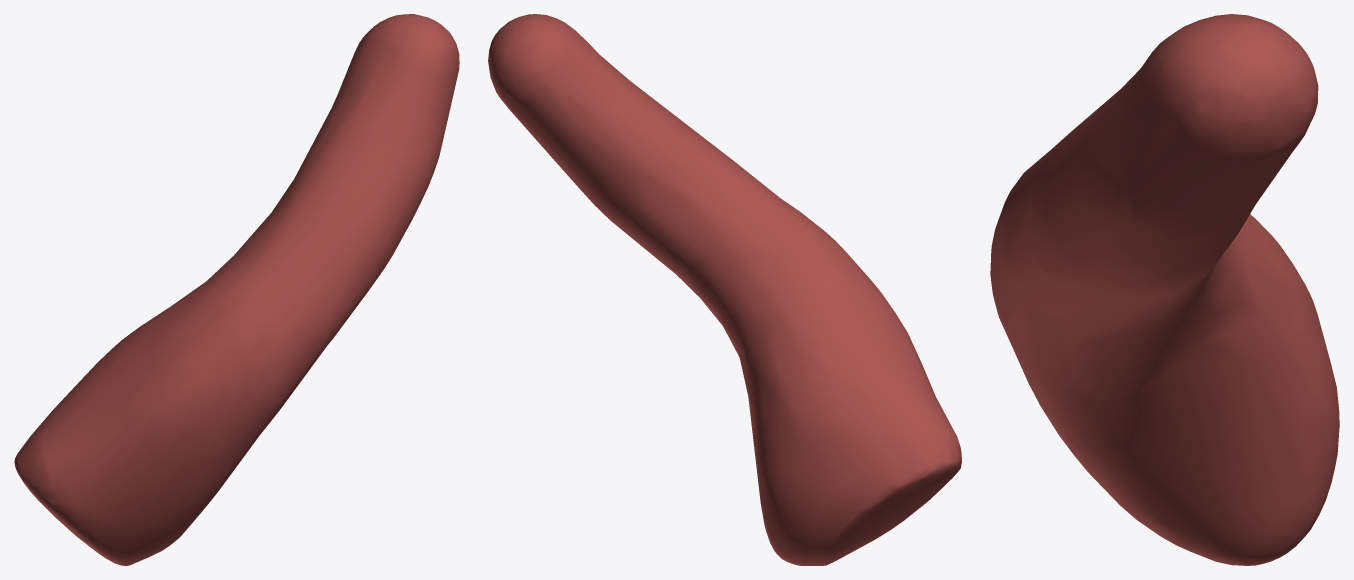
The model's file is FMA4761.glb.
The picture shows the model from 3 angles, left to right: view 1: azimuth 30°, elevation 25°; view 2: azimuth 150°, elevation 25°; view 3: azimuth 270°, elevation 25°; orthographic projection. The views are drawn at different scales.
Parts seen in each view (by area): view 1: FMA4761; view 2: FMA4761; view 3: FMA4761.
Part boxes in pixels (x1,y1,x2,y2): FMA4761: (14,14,459,565); FMA4761: (488,14,961,565); FMA4761: (990,14,1339,565).
Bounding box in the file's own units: 0.0519 × 0.0522 × 0.022.
